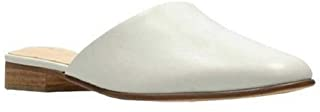shoes: (2, 1, 320, 104)
